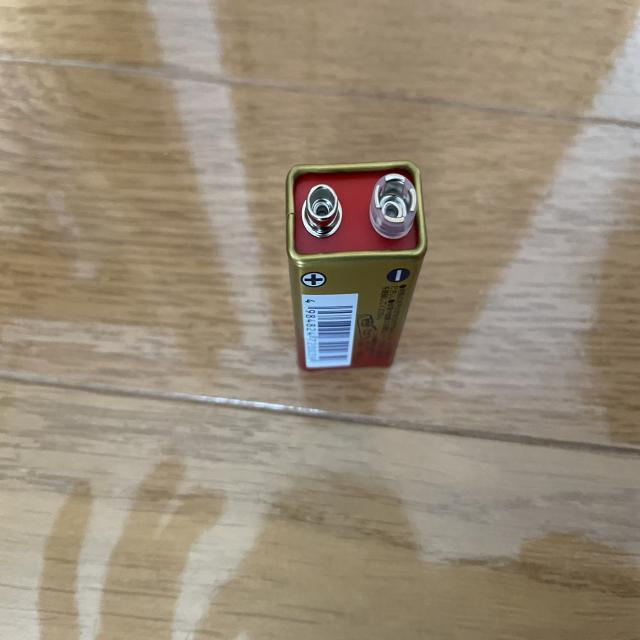9V: (285, 161, 428, 373)
